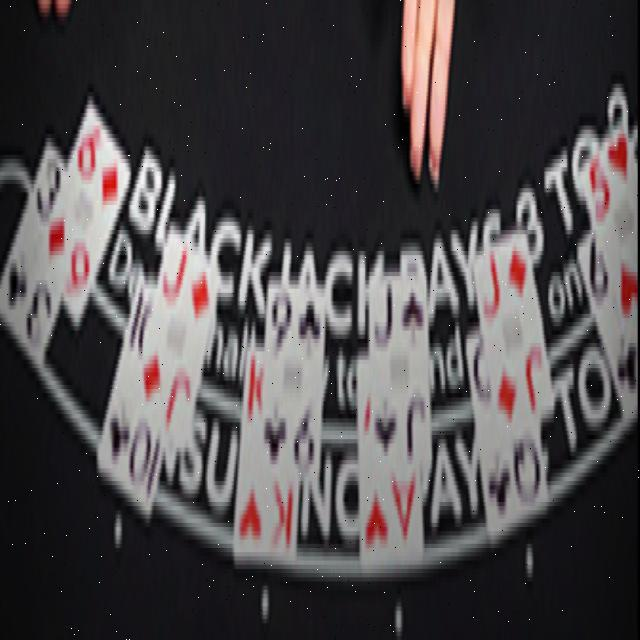Card-10: (97, 266, 165, 514)
Card-3: (0, 136, 65, 371)
Card-5: (581, 119, 638, 340)
Card-6: (42, 95, 131, 322), (577, 229, 638, 433)
Card-9: (263, 278, 325, 477)
Card-A: (358, 354, 423, 565)
Card-J: (137, 222, 217, 452), (473, 224, 554, 443), (370, 271, 431, 472)
Card-K: (234, 345, 299, 565)
Card-Q: (466, 332, 547, 538)
